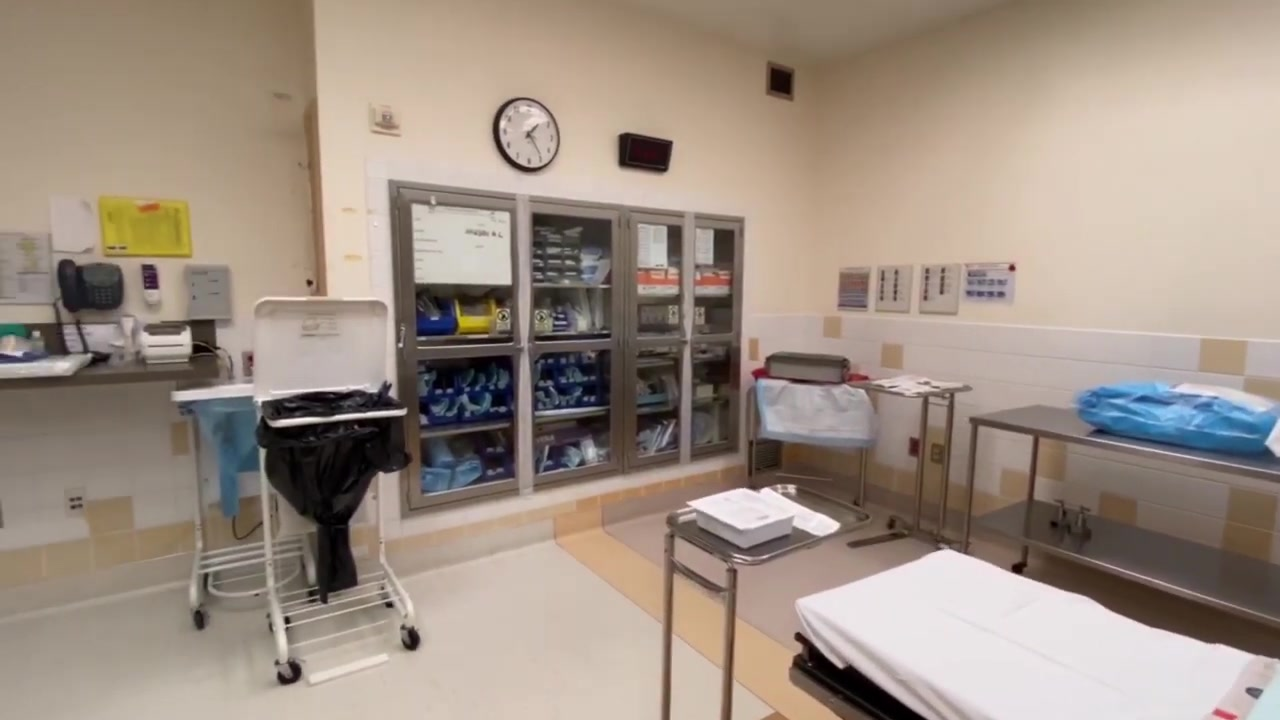cabinet: (386, 178, 752, 519)
countertop: (1, 351, 214, 388)
operating_bed: (789, 548, 1280, 720)
telephone: (57, 259, 124, 312)
utility_cart: (960, 402, 1280, 629), (659, 481, 873, 720), (846, 374, 973, 550)
waste_bin: (254, 379, 421, 686), (169, 381, 324, 630)
